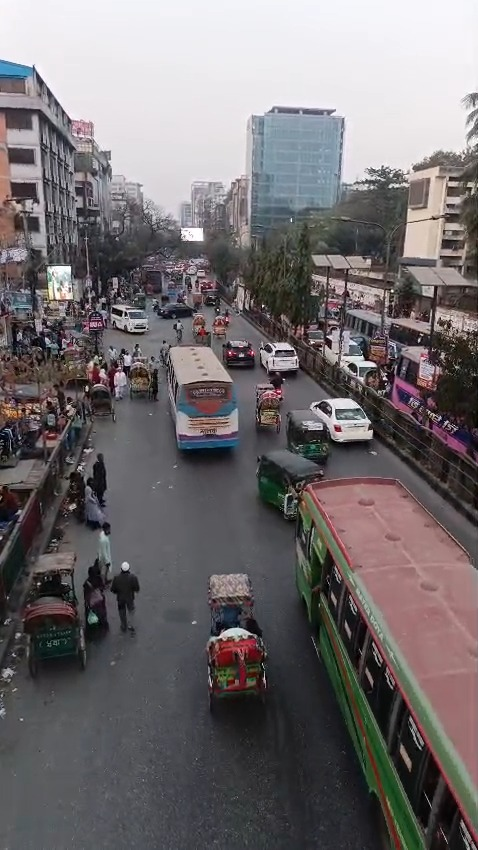Bus: (165, 342, 240, 460)
